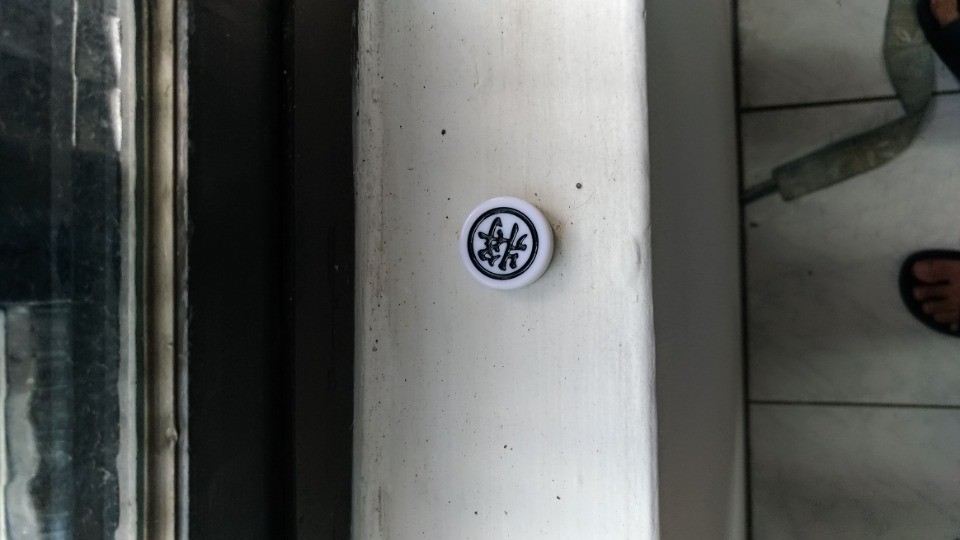b-king: (446, 184, 575, 302)
